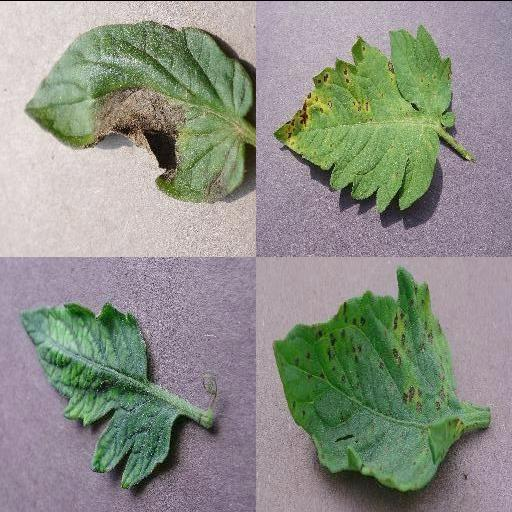Late Blight: (21, 20, 256, 203)
Mosaic Virus: (16, 300, 176, 486)
Septoria: (271, 265, 465, 489), (272, 24, 456, 210)
